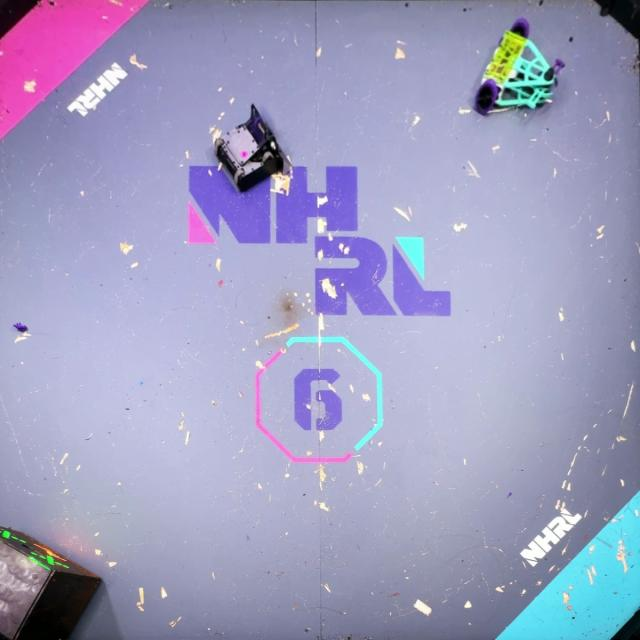housebot: (0, 523, 104, 640)
robot: (470, 17, 566, 114), (212, 100, 292, 193)
